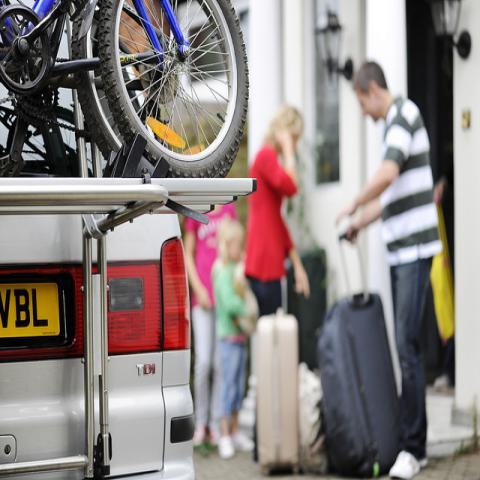car: (1, 212, 196, 473)
